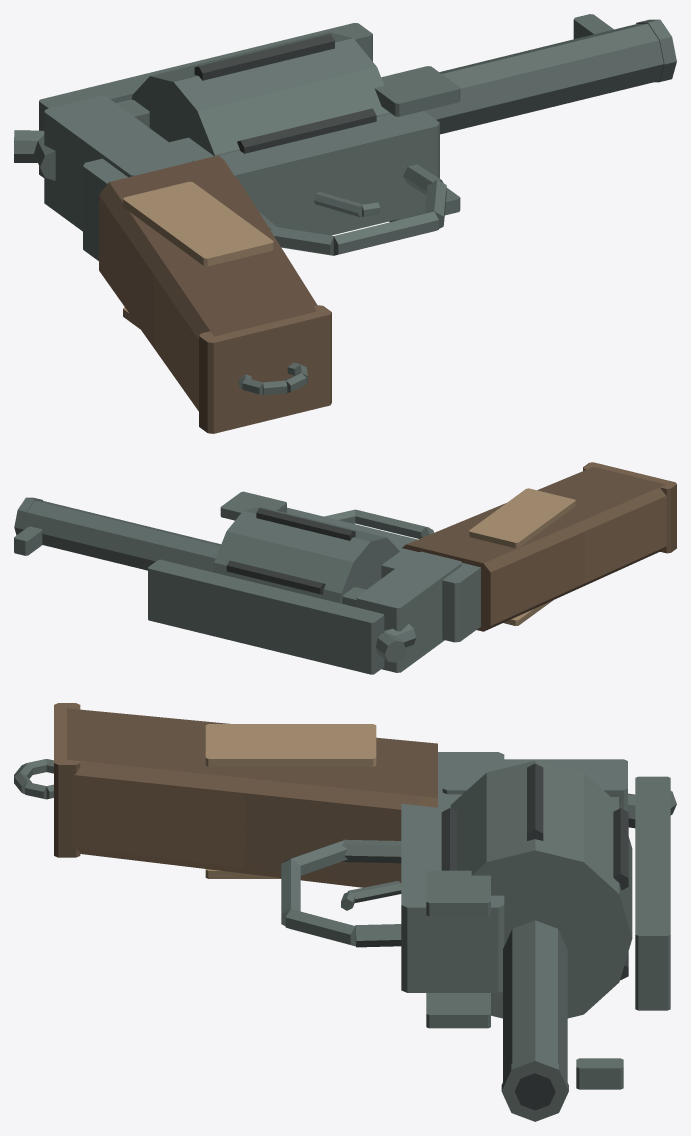
File: weapon-webley-v.glb
3 renders of one model, top to bottom at view 1: azimuth 30°, elevation 25°; view 2: azimuth 150°, elevation 25°; view 3: azimuth 270°, elevation 25°, orthographic. The views are drawn at different scales.
Parts seen in each view (by area): view 1: weapon-webley-v/eight-sided-wood-grip, weapon-webley-v/lower-frame, weapon-webley-v/fluted-cylinder, weapon-webley-v/barrel, weapon-webley-v/eight-sided-wood-grip-heel, weapon-webley-v/frame-rear, weapon-webley-v/grip-plaque-left, weapon-webley-v/continuous-top-strap, weapon-webley-v/top-break-hinge-left, weapon-webley-v/cylinder-long-flute-3, weapon-webley-v/hollow-trigger-guard-4, weapon-webley-v/cylinder-long-flute-4 (+8 smaller); view 2: weapon-webley-v/eight-sided-wood-grip, weapon-webley-v/continuous-top-strap, weapon-webley-v/fluted-cylinder, weapon-webley-v/barrel, weapon-webley-v/frame-rear, weapon-webley-v/lower-frame, weapon-webley-v/grip-plaque-left, weapon-webley-v/eight-sided-wood-grip-heel, weapon-webley-v/cylinder-long-flute-2, weapon-webley-v/cylinder-long-flute-3, weapon-webley-v/top-break-hinge-left, weapon-webley-v/hollow-trigger-guard-4 (+4 smaller); view 3: weapon-webley-v/eight-sided-wood-grip, weapon-webley-v/fluted-cylinder, weapon-webley-v/lower-frame, weapon-webley-v/barrel, weapon-webley-v/continuous-top-strap, weapon-webley-v/grip-plaque-left, weapon-webley-v/frame-rear, weapon-webley-v/top-break-hinge-left, weapon-webley-v/eight-sided-wood-grip-heel, weapon-webley-v/barrel-end-rim, weapon-webley-v/top-break-hinge-right, weapon-webley-v/front-sight (+10 smaller).
Boxes of the visible parts, x1,y1,x2,y2 form: weapon-webley-v/eight-sided-wood-grip: (99, 155, 316, 411); weapon-webley-v/lower-frame: (83, 111, 439, 260); weapon-webley-v/fluted-cylinder: (131, 32, 390, 156); weapon-webley-v/barrel: (424, 23, 663, 134); weapon-webley-v/eight-sided-wood-grip-heel: (199, 305, 331, 433); weapon-webley-v/frame-rear: (44, 96, 193, 231); weapon-webley-v/grip-plaque-left: (123, 181, 273, 266); weapon-webley-v/continuous-top-strap: (39, 23, 372, 177); weapon-webley-v/top-break-hinge-left: (374, 66, 460, 116); weapon-webley-v/cylinder-long-flute-3: (194, 34, 334, 80); weapon-webley-v/hollow-trigger-guard-4: (333, 211, 438, 255); weapon-webley-v/cylinder-long-flute-4: (237, 108, 376, 153); weapon-webley-v/eight-sided-wood-grip: (402, 467, 666, 631); weapon-webley-v/continuous-top-strap: (148, 559, 384, 674); weapon-webley-v/fluted-cylinder: (213, 506, 399, 603); weapon-webley-v/barrel: (23, 500, 220, 572); weapon-webley-v/frame-rear: (356, 551, 461, 672); weapon-webley-v/lower-frame: (287, 507, 480, 642); weapon-webley-v/grip-plaque-left: (469, 488, 575, 548); weapon-webley-v/eight-sided-wood-grip-heel: (583, 462, 676, 553); weapon-webley-v/cylinder-long-flute-2: (226, 560, 325, 594); weapon-webley-v/cylinder-long-flute-3: (256, 508, 355, 540); weapon-webley-v/top-break-hinge-left: (220, 491, 286, 520); weapon-webley-v/hollow-trigger-guard-4: (355, 509, 429, 538); weapon-webley-v/eight-sided-wood-grip: (67, 708, 437, 887); weapon-webley-v/fluted-cylinder: (450, 760, 632, 1018); weapon-webley-v/lower-frame: (401, 752, 504, 992); weapon-webley-v/barrel: (503, 920, 567, 1081); weapon-webley-v/continuous-top-strap: (635, 776, 670, 1010); weapon-webley-v/grip-plaque-left: (205, 724, 376, 766); weapon-webley-v/frame-rear: (442, 759, 627, 811); weapon-webley-v/top-break-hinge-left: (426, 870, 490, 916); weapon-webley-v/eight-sided-wood-grip-heel: (54, 703, 80, 857); weapon-webley-v/barrel-end-rim: (501, 1054, 568, 1121); weapon-webley-v/top-break-hinge-right: (426, 993, 490, 1028); weapon-webley-v/front-sight: (576, 1058, 623, 1089).
Bounding box in the file's own units: 0.2754 × 0.0734 × 0.2252.
Materials: 4 (4 with a texture image).
